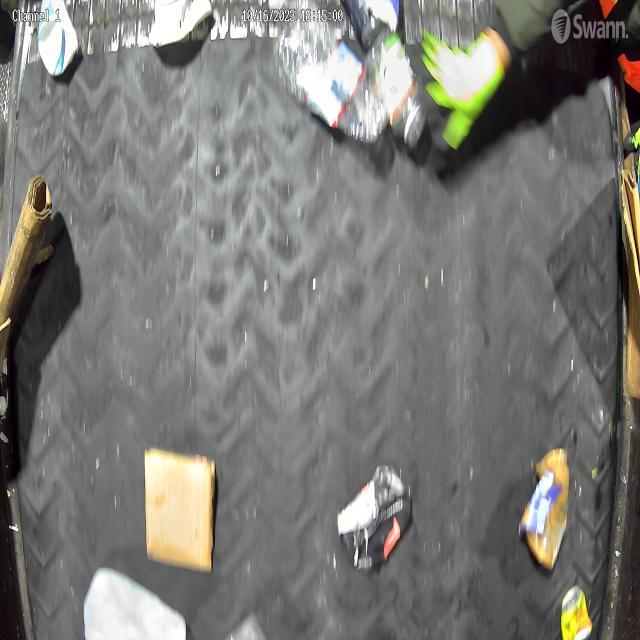can: (560, 585, 594, 640)
